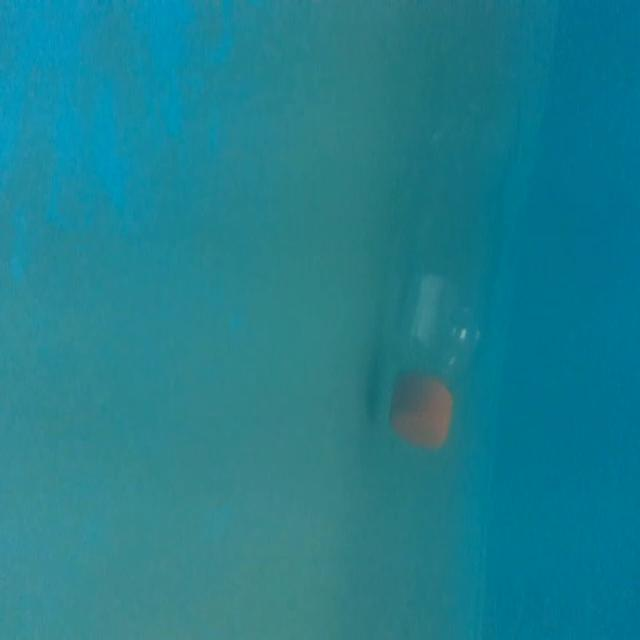plastic bottle: (386, 85, 520, 458)
